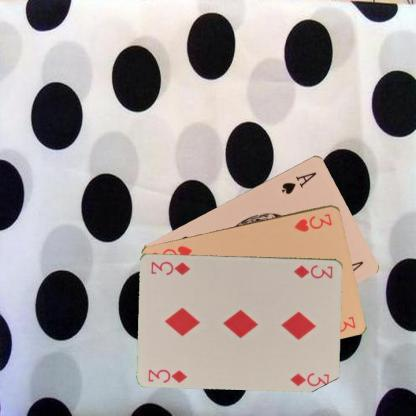3d: (292, 262, 334, 280), (146, 366, 188, 384)
3h: (292, 210, 333, 233)
As: (278, 169, 318, 195)
